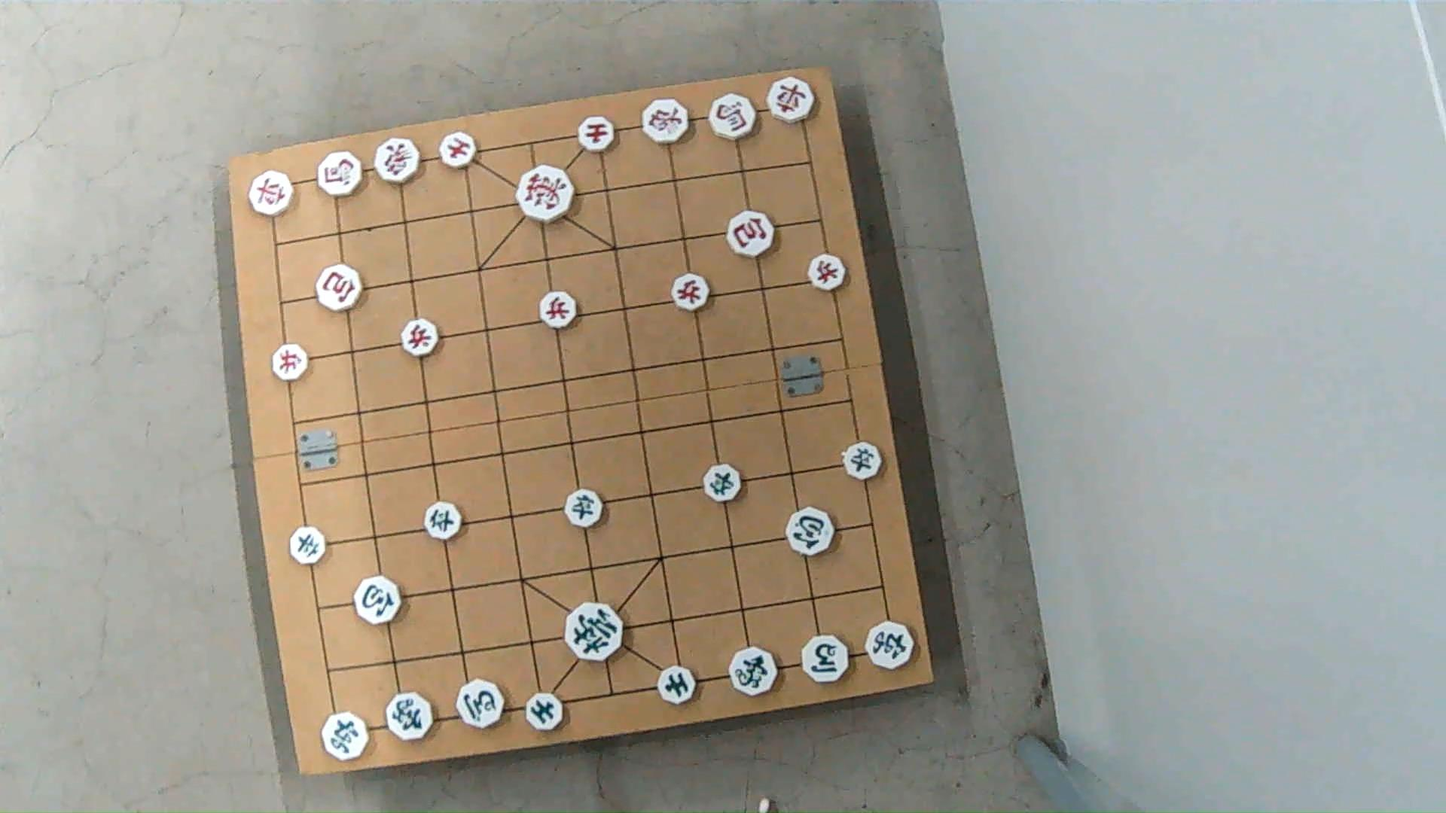cha_green: (865, 621, 914, 673), (319, 713, 368, 758)
cha_red: (766, 78, 818, 123), (249, 171, 294, 214)
jol_green: (840, 443, 883, 479), (703, 466, 744, 503), (563, 489, 604, 525), (290, 528, 329, 565), (422, 504, 462, 540)
jol_red: (670, 274, 710, 309), (401, 320, 441, 355), (540, 294, 579, 329), (807, 255, 846, 290), (271, 346, 310, 381)
ma_green: (454, 681, 504, 729), (801, 637, 849, 682)
ma_red: (706, 93, 757, 137), (315, 154, 364, 196)
po_green: (354, 577, 401, 623), (786, 508, 834, 553)
po_red: (726, 213, 775, 255), (316, 266, 362, 309)
sa_green: (657, 666, 697, 702), (526, 693, 563, 728)
sa_red: (438, 131, 480, 166), (576, 117, 616, 151)
sang_green: (727, 645, 779, 694), (385, 694, 432, 740)
sang_red: (372, 139, 420, 182), (642, 99, 690, 141)
wang_green: (567, 604, 628, 661)
wang_red: (517, 167, 575, 221)
